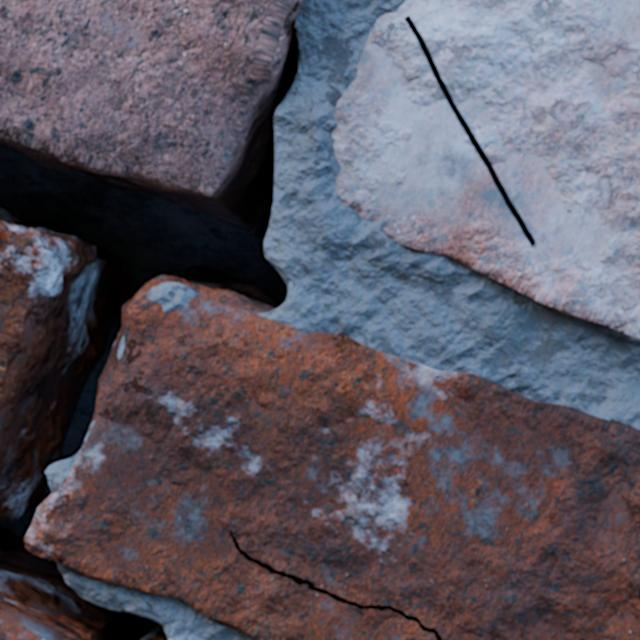broken_brick: (0, 620, 47, 639)
crack: (0, 0, 639, 639), (332, 0, 639, 341)
